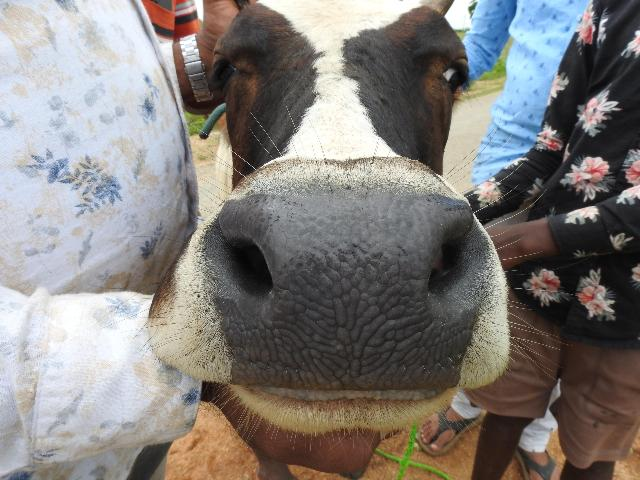Muzzle: (234, 196, 462, 396)
